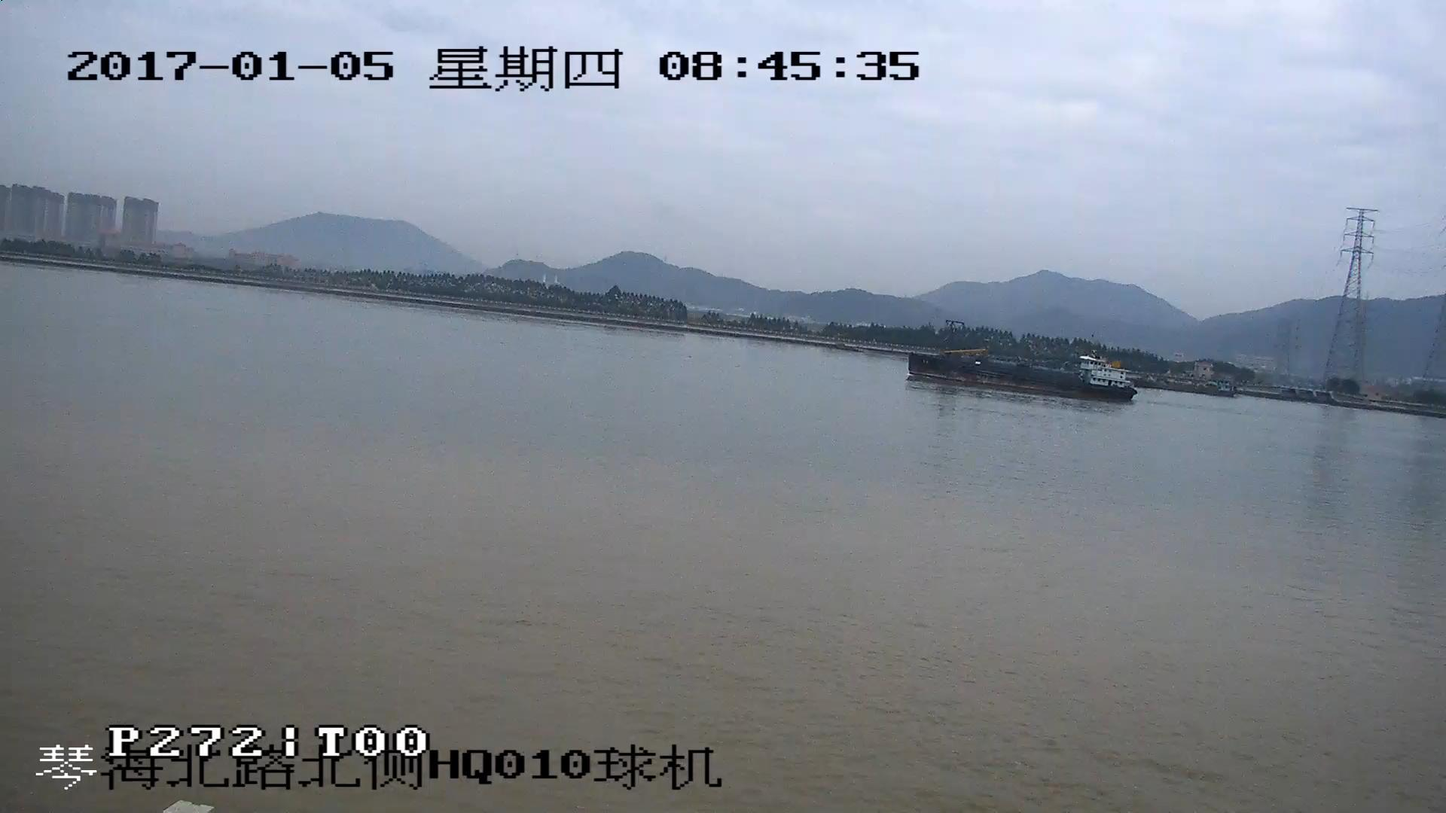bulk cargo carrier: (911, 325, 1133, 403)
